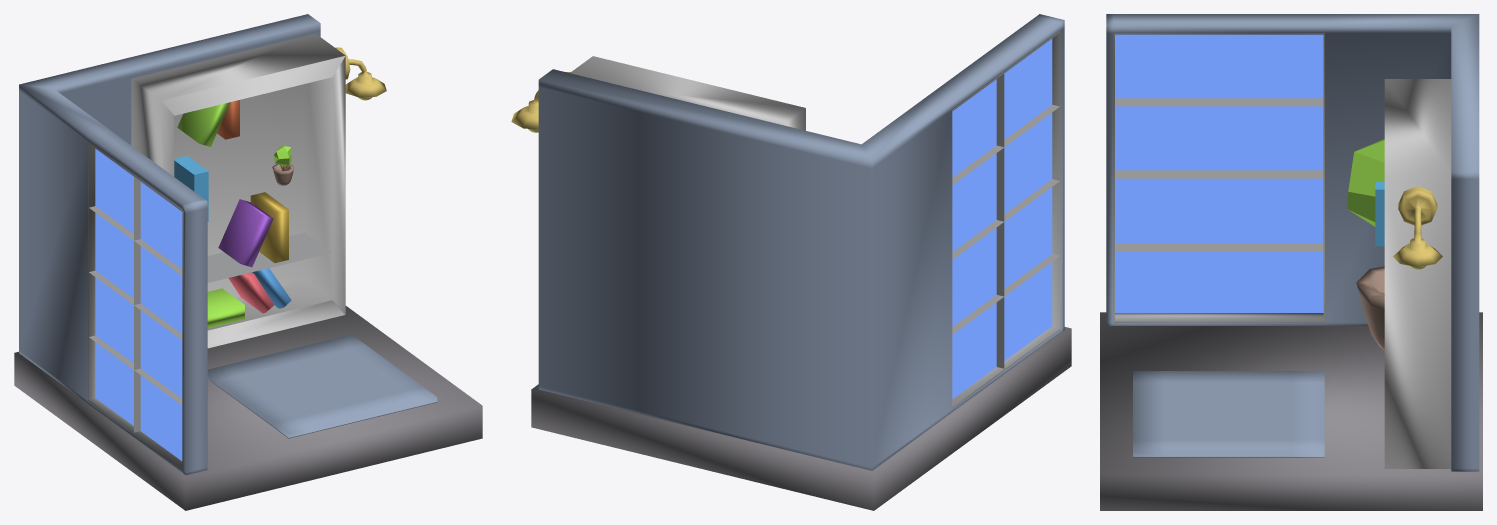
The model's file is room.glb.
The picture shows the model from 3 angles, left to right: view 1: azimuth 30°, elevation 25°; view 2: azimuth 150°, elevation 25°; view 3: azimuth 270°, elevation 25°; orthographic projection. The views are drawn at different scales.
Visible parts, largest first — view 1: Walls, Shelf, Floor, Window, Rug, Cube.001, shelfinside, books1, Cube, books3, BOOK, Shelflamp (+3 smaller); view 2: Walls, Window, Floor, Shelf, Shelflamp; view 3: Window, Floor, Walls, Shelf, Rug, Shelflamp, Tree, Plant, BOOK.
Part boxes in pixels (bbox=[...]): Walls: bbox=[19, 14, 320, 475]; Shelf: bbox=[131, 34, 345, 348]; Floor: bbox=[14, 306, 482, 510]; Window: bbox=[88, 142, 182, 469]; Rug: bbox=[207, 334, 437, 438]; Cube.001: bbox=[218, 199, 273, 267]; shelfinside: bbox=[207, 232, 331, 282]; books1: bbox=[250, 192, 288, 262]; Cube: bbox=[177, 102, 229, 146]; books3: bbox=[207, 288, 244, 328]; BOOK: bbox=[174, 156, 208, 221]; Shelflamp: bbox=[335, 47, 386, 97]; Walls: bbox=[538, 14, 1064, 470]; Window: bbox=[952, 31, 1060, 408]; Floor: bbox=[531, 327, 1071, 510]; Shelf: bbox=[570, 56, 805, 130]; Shelflamp: bbox=[511, 72, 570, 129]; Window: bbox=[1113, 33, 1324, 322]; Floor: bbox=[1100, 312, 1482, 510]; Walls: bbox=[1106, 14, 1479, 471]; Shelf: bbox=[1384, 79, 1451, 468]; Rug: bbox=[1133, 371, 1324, 457]; Shelflamp: bbox=[1393, 186, 1442, 266]; Tree: bbox=[1347, 139, 1384, 226]; Plant: bbox=[1356, 266, 1384, 350]; BOOK: bbox=[1375, 182, 1384, 246].
Size of what is drawn, in the model's own units: 3.61 by 3.04 by 3.14.
